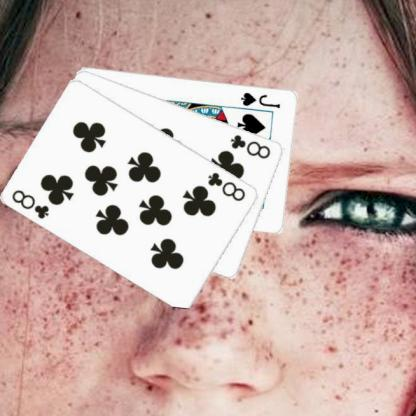8C: (9, 186, 51, 221), (205, 169, 247, 203), (228, 132, 272, 160)
JS: (238, 89, 282, 109)
